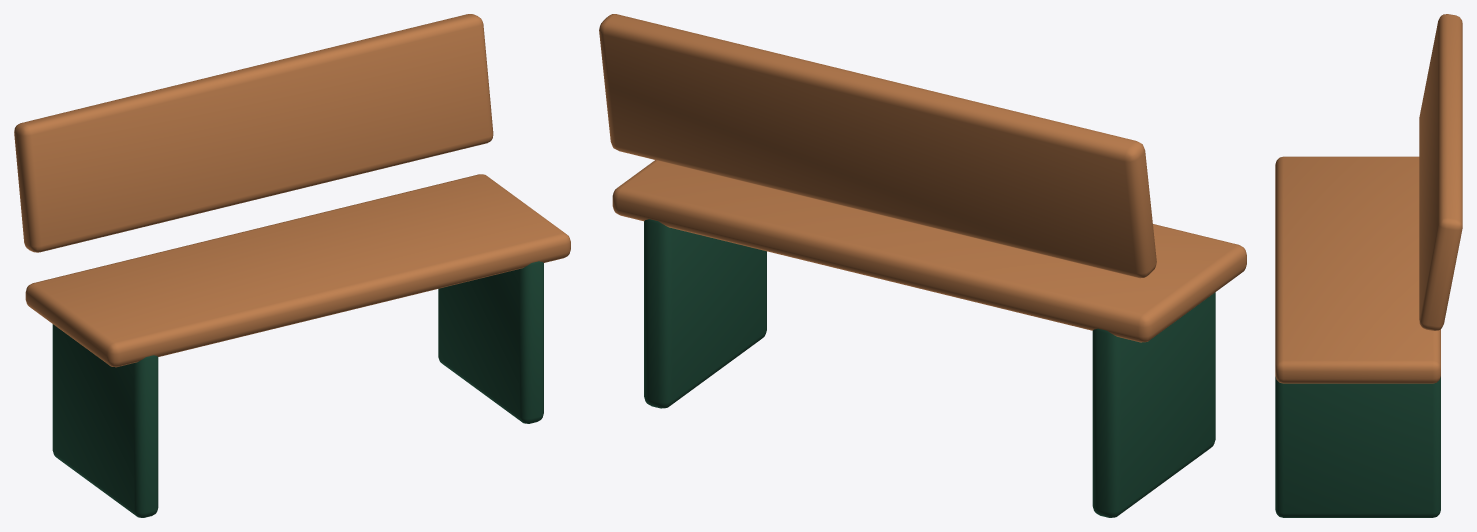
The model's file is prop_bench.glb.
3 views of the same model, side by side, from view 1: azimuth 30°, elevation 25°; view 2: azimuth 150°, elevation 25°; view 3: azimuth 270°, elevation 25° (orthographic). The views are drawn at different scales.
Visible parts, largest first — view 1: bench; view 2: bench; view 3: bench.
Boxes of the visible parts, <box> form: bench: <box>14,14,570,517</box>; bench: <box>599,14,1246,517</box>; bench: <box>1275,14,1462,517</box>.
Bounding box in the file's own units: 1.2 × 0.8295 × 0.4521.
